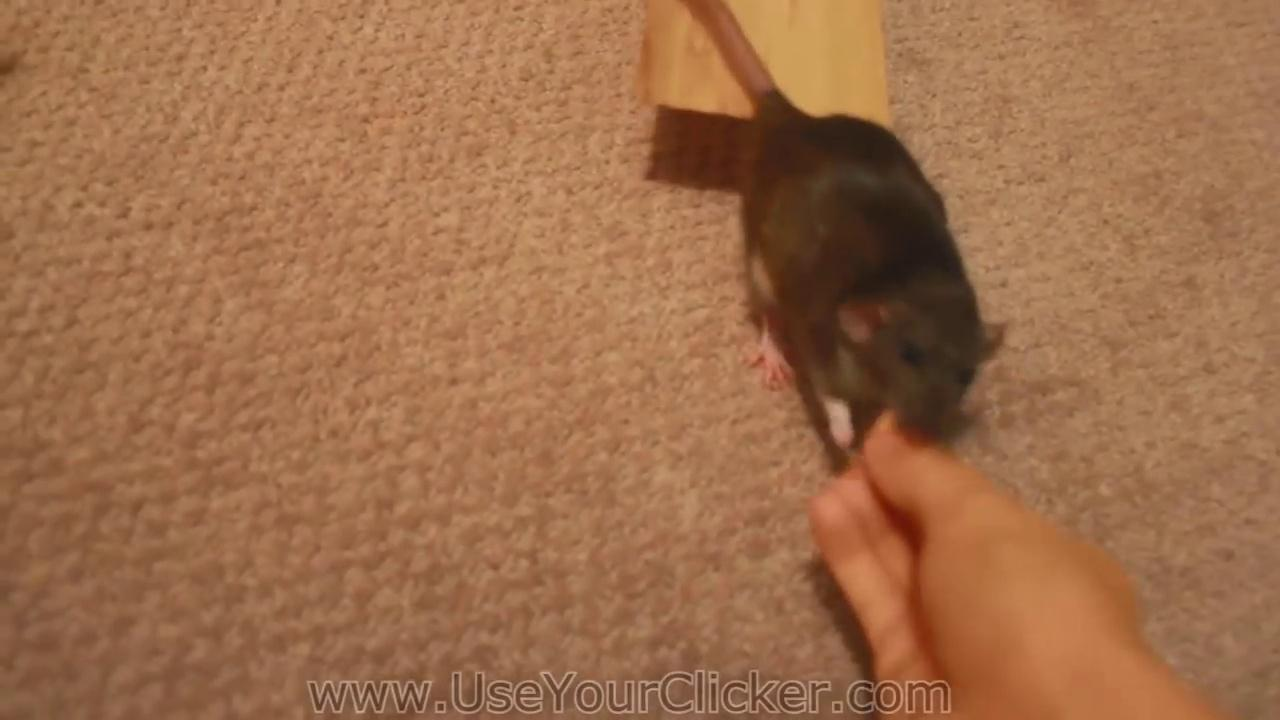rat: (694, 0, 1008, 449)
